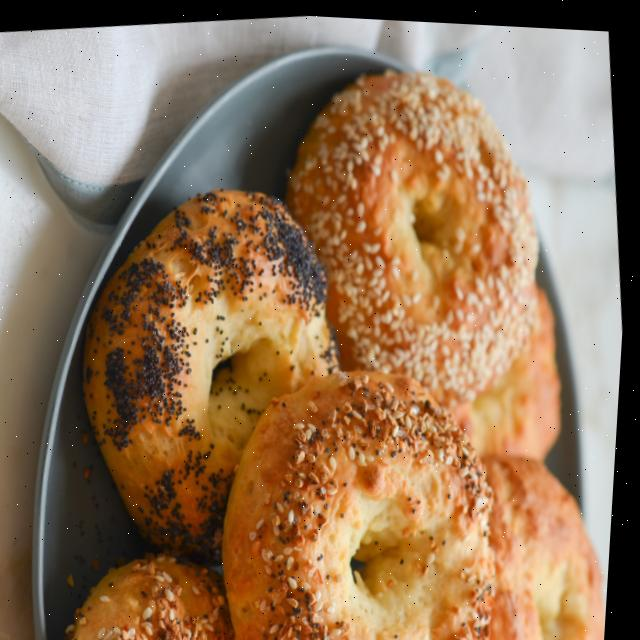Bagel: (86, 187, 342, 558), (287, 66, 539, 402), (228, 367, 501, 640), (489, 450, 612, 640), (73, 552, 241, 640)
